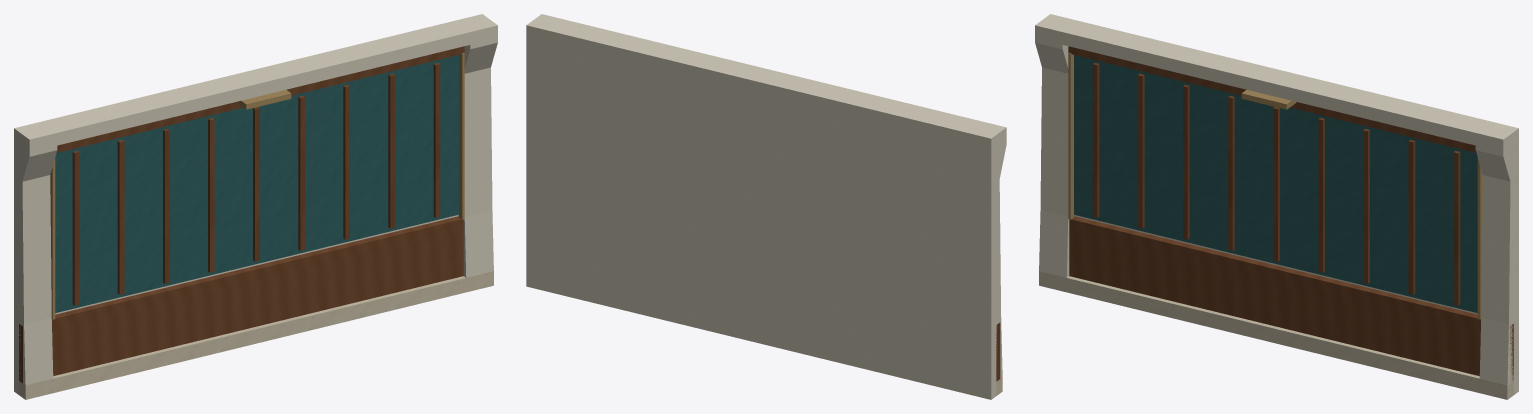
The model's file is AST-DIN-005.glb.
3 views of the same model, side by side, from view 1: azimuth 30°, elevation 25°; view 2: azimuth 150°, elevation 25°; view 3: azimuth 330°, elevation 25° (orthographic).
Visible parts, largest first — view 1: DIN_AcousticField, DIN_WalnutDado, DIN_UpperStoneReturn, DIN_SplayedReturn_0, DIN_StoneSkirting, DIN_SplayedReturn_1, DIN_BackdropSolid, DIN_UpperWalnutFrieze, DIN_AcousticRib_0, DIN_AcousticRib_1, DIN_AcousticRib_7, DIN_AcousticRib_8 (+8 smaller); view 2: DIN_BackdropSolid, DIN_UpperStoneReturn, DIN_SplayedReturn_0; view 3: DIN_AcousticField, DIN_WalnutDado, DIN_UpperStoneReturn, DIN_SplayedReturn_1, DIN_StoneSkirting, DIN_SplayedReturn_0, DIN_BackdropSolid, DIN_UpperWalnutFrieze, DIN_AcousticRib_0, DIN_AcousticRib_1, DIN_AcousticRib_7, DIN_AcousticRib_8 (+8 smaller).
Boxes of the visible parts, x1=… form: DIN_AcousticField: x1=55, y1=55, x2=458, y2=312; DIN_WalnutDado: x1=19, y1=216, x2=463, y2=383; DIN_UpperStoneReturn: x1=19, y1=19, x2=497, y2=152; DIN_SplayedReturn_0: x1=19, y1=125, x2=57, y2=385; DIN_StoneSkirting: x1=19, y1=271, x2=493, y2=399; DIN_SplayedReturn_1: x1=460, y1=18, x2=497, y2=277; DIN_BackdropSolid: x1=14, y1=14, x2=486, y2=394; DIN_UpperWalnutFrieze: x1=56, y1=46, x2=464, y2=152; DIN_AcousticRib_0: x1=72, y1=151, x2=79, y2=305; DIN_AcousticRib_1: x1=117, y1=140, x2=124, y2=294; DIN_AcousticRib_7: x1=388, y1=74, x2=395, y2=228; DIN_AcousticRib_8: x1=433, y1=62, x2=440, y2=217; DIN_BackdropSolid: x1=526, y1=21, x2=996, y2=399; DIN_UpperStoneReturn: x1=534, y1=14, x2=1006, y2=146; DIN_SplayedReturn_0: x1=969, y1=120, x2=1006, y2=378; DIN_AcousticField: x1=1074, y1=55, x2=1477, y2=312; DIN_WalnutDado: x1=1069, y1=216, x2=1513, y2=381; DIN_UpperStoneReturn: x1=1035, y1=18, x2=1513, y2=151; DIN_SplayedReturn_1: x1=1475, y1=125, x2=1513, y2=385; DIN_StoneSkirting: x1=1039, y1=271, x2=1513, y2=399; DIN_SplayedReturn_0: x1=1035, y1=17, x2=1072, y2=277; DIN_BackdropSolid: x1=1046, y1=14, x2=1518, y2=394; DIN_UpperWalnutFrieze: x1=1068, y1=46, x2=1476, y2=152; DIN_AcousticRib_0: x1=1092, y1=62, x2=1099, y2=217; DIN_AcousticRib_1: x1=1137, y1=74, x2=1144, y2=228; DIN_AcousticRib_7: x1=1408, y1=140, x2=1415, y2=294; DIN_AcousticRib_8: x1=1453, y1=151, x2=1460, y2=305.
Bounding box in the file's own units: 5.4 × 2.9 × 0.41.
6 materials, 5 textured.
